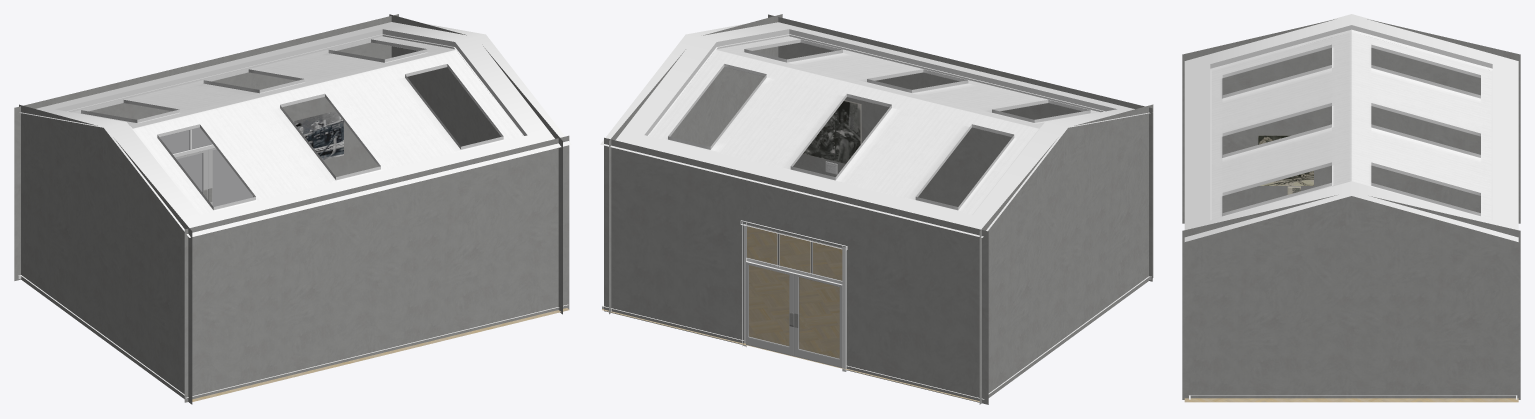
The model's file is Museum setup.glb.
3 views of the same model, side by side, from view 1: azimuth 30°, elevation 25°; view 2: azimuth 150°, elevation 25°; view 3: azimuth 270°, elevation 25° (orthographic). The views are drawn at different scales.
Parts seen in each view (by area): view 1: pPlane4_M_Wall_0, pPlane6_M_Wall_0, pCube31_M_CeilingPlanks_0, pPlane8_M_CeilingBlank_0, pPlane5_M_Wall_0, pPlane7_M_Wall_0, pCube42_M_GlassDoor_0, pPlane15_M_HydrantPhoto_0, pPlane1_M_Floor_0; view 2: pPlane5_M_Wall_0, pPlane6_M_Wall_0, pCube31_M_CeilingPlanks_0, pPlane8_M_CeilingBlank_0, pCube42_M_GlassDoor_0, pPlane4_M_Wall_0, pPlane1_M_Floor_0, pPlane7_M_Wall_0, pPlane11_blinn42_0; view 3: pPlane7_M_Wall_0, pCube31_M_CeilingPlanks_0, pPlane8_M_CeilingBlank_0, pPlane6_M_Wall_0, pPlane1_M_Floor_0, pPlane12_M_GrantFire_0.
Part boxes in pixels (x1,y1,x2,y2): pPlane4_M_Wall_0: (184, 135, 569, 402); pPlane6_M_Wall_0: (19, 104, 192, 404); pCube31_M_CeilingPlanks_0: (67, 34, 523, 215); pPlane8_M_CeilingBlank_0: (19, 22, 571, 237); pPlane5_M_Wall_0: (14, 14, 398, 280); pPlane7_M_Wall_0: (389, 14, 562, 314); pCube42_M_GlassDoor_0: (160, 128, 253, 206); pPlane15_M_HydrantPhoto_0: (293, 111, 343, 159); pPlane1_M_Floor_0: (192, 308, 569, 401); pPlane5_M_Wall_0: (601, 137, 988, 404); pPlane6_M_Wall_0: (979, 104, 1153, 404); pCube31_M_CeilingPlanks_0: (648, 34, 1104, 214); pPlane8_M_CeilingBlank_0: (600, 22, 1153, 237); pCube42_M_GlassDoor_0: (740, 220, 847, 371); pPlane4_M_Wall_0: (768, 14, 1152, 281); pPlane1_M_Floor_0: (602, 226, 979, 401); pPlane7_M_Wall_0: (609, 14, 782, 314); pPlane11_blinn42_0: (803, 100, 861, 163); pPlane7_M_Wall_0: (1182, 195, 1520, 399); pCube31_M_CeilingPlanks_0: (1210, 29, 1492, 220); pPlane8_M_CeilingBlank_0: (1184, 14, 1518, 241); pPlane6_M_Wall_0: (1182, 19, 1520, 223); pPlane1_M_Floor_0: (1184, 398, 1518, 402); pPlane12_M_GrantFire_0: (1258, 135, 1313, 185).
Size of the model in its own units: 12.35 by 6.55 by 9.57.
Materials: 20 (18 with a texture image).
